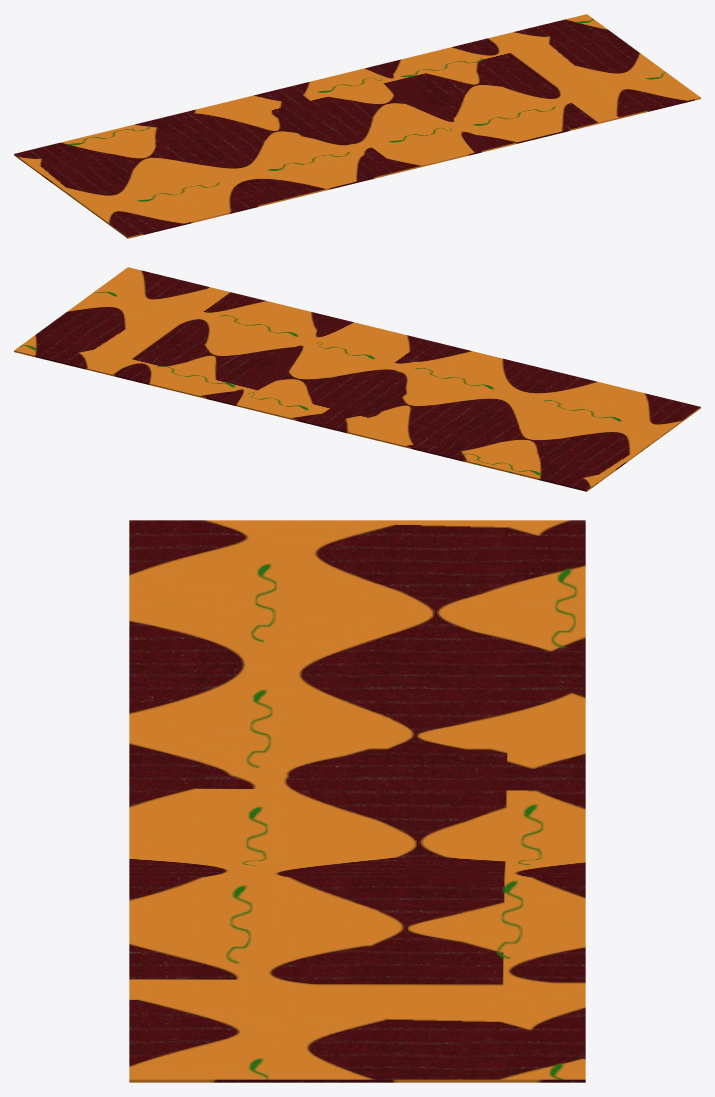
The model's file is Piso.obj.
3 views of the same model, one above another, from view 1: azimuth 30°, elevation 25°; view 2: azimuth 150°, elevation 25°; view 3: azimuth 270°, elevation 25° (orthographic). The views are drawn at different scales.
Visible parts, largest first — view 1: Piso1:pCube109; view 2: Piso1:pCube109; view 3: Piso1:pCube109.
Boxes of the visible parts, x1=… form: Piso1:pCube109: x1=14, y1=14, x2=700, y2=238; Piso1:pCube109: x1=14, y1=267, x2=700, y2=491; Piso1:pCube109: x1=129, y1=520, x2=585, y2=1082.
Bounding box in the file's own units: 16.85 × 0.041 × 5.81.
Materials: 1 (1 with a texture image).
